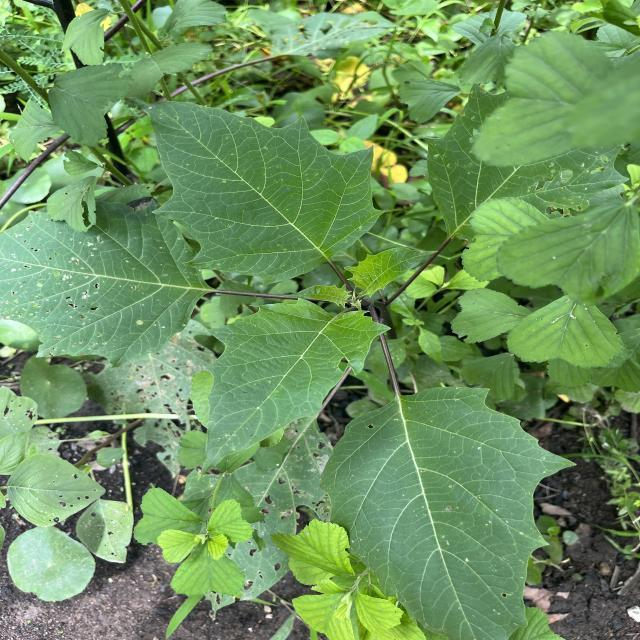Datura metal linn: (316, 383, 581, 640), (120, 94, 390, 288), (194, 294, 396, 483)
